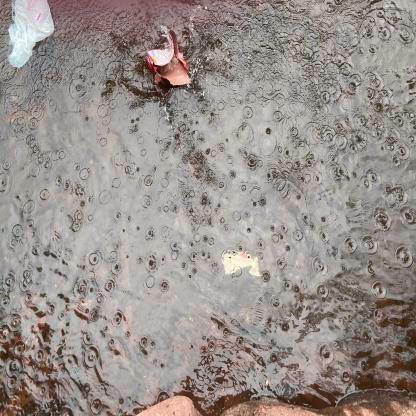Plastic: (6, 0, 57, 69), (220, 246, 262, 278)
